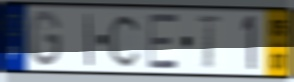1: (240, 13, 258, 73)
C: (107, 12, 143, 70)
E: (147, 12, 180, 71)
G: (28, 8, 64, 70)
I: (84, 12, 94, 68)
T: (194, 14, 224, 72)
